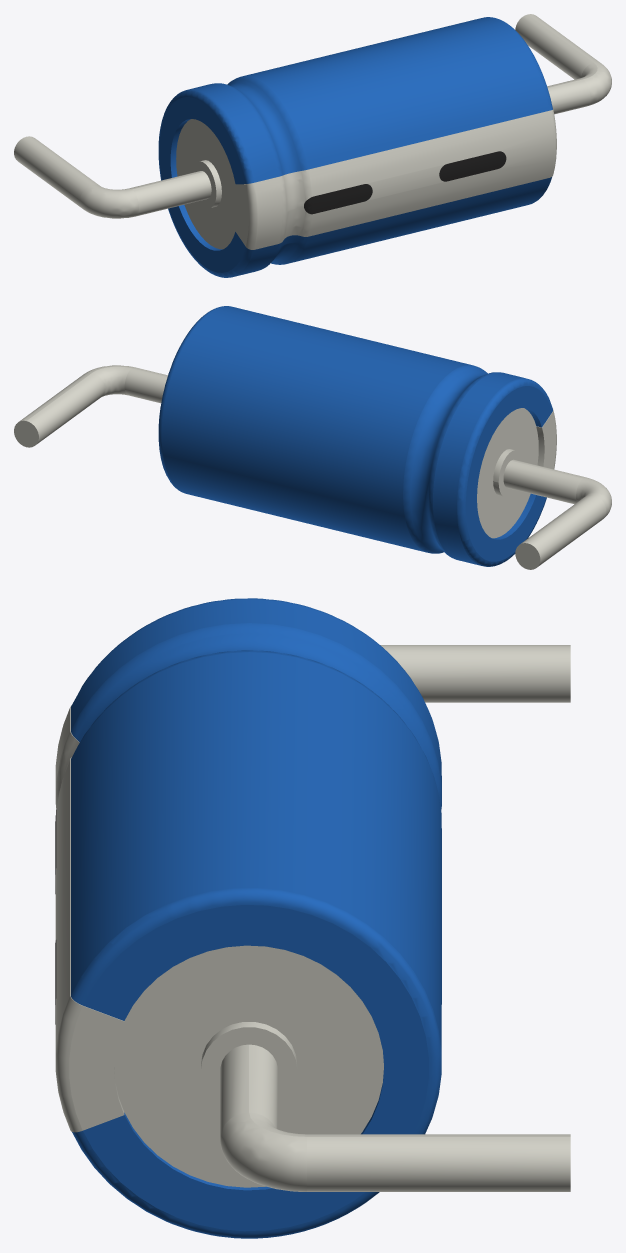
The model's file is CP_Axial_L11.0mm_D6.0mm_P18.00mm_Horizontal.glb.
3 views of the same model, one above another, from view 1: azimuth 30°, elevation 25°; view 2: azimuth 150°, elevation 25°; view 3: azimuth 270°, elevation 25° (orthographic). The views are drawn at different scales.
Parts seen in each view (by area): view 1: CP_Axial_L110mm_D60mm_P1800mm_Horizontal; view 2: CP_Axial_L110mm_D60mm_P1800mm_Horizontal; view 3: CP_Axial_L110mm_D60mm_P1800mm_Horizontal.
Boxes of the visible parts, x1,y1,x2,y2 form: CP_Axial_L110mm_D60mm_P1800mm_Horizontal: (14, 14, 611, 277); CP_Axial_L110mm_D60mm_P1800mm_Horizontal: (14, 306, 611, 569); CP_Axial_L110mm_D60mm_P1800mm_Horizontal: (55, 598, 570, 1238).
Size of the model in its own units: 18.89 by 6 by 8.01.
